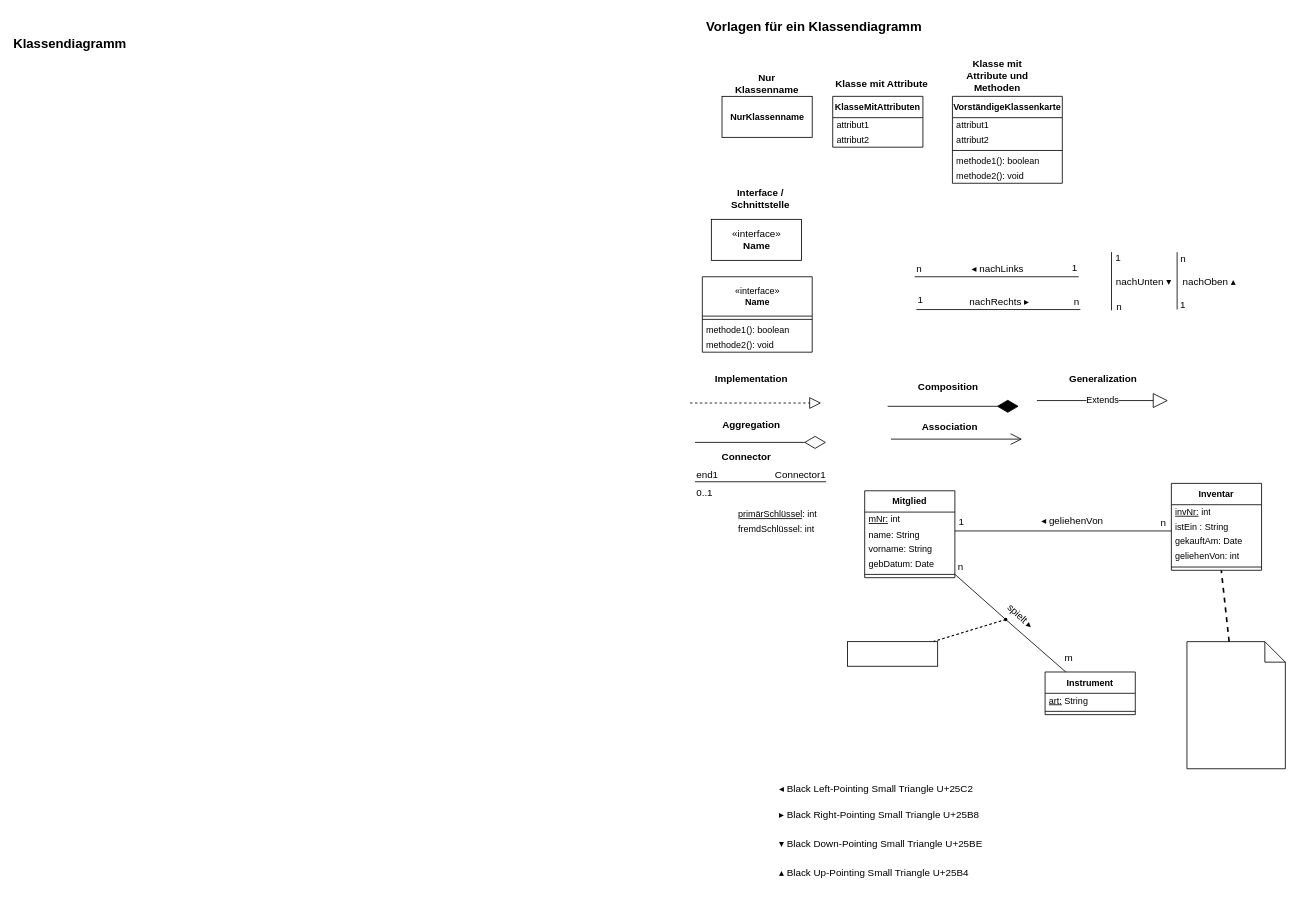
Some shapes in this 1300 by 899 pixel diagram are drawn without their labels. The centre of each missing label's shape, as x and y in pixels:
Ein Kommentar: point 1235,705
niveau: String: point 892,653
